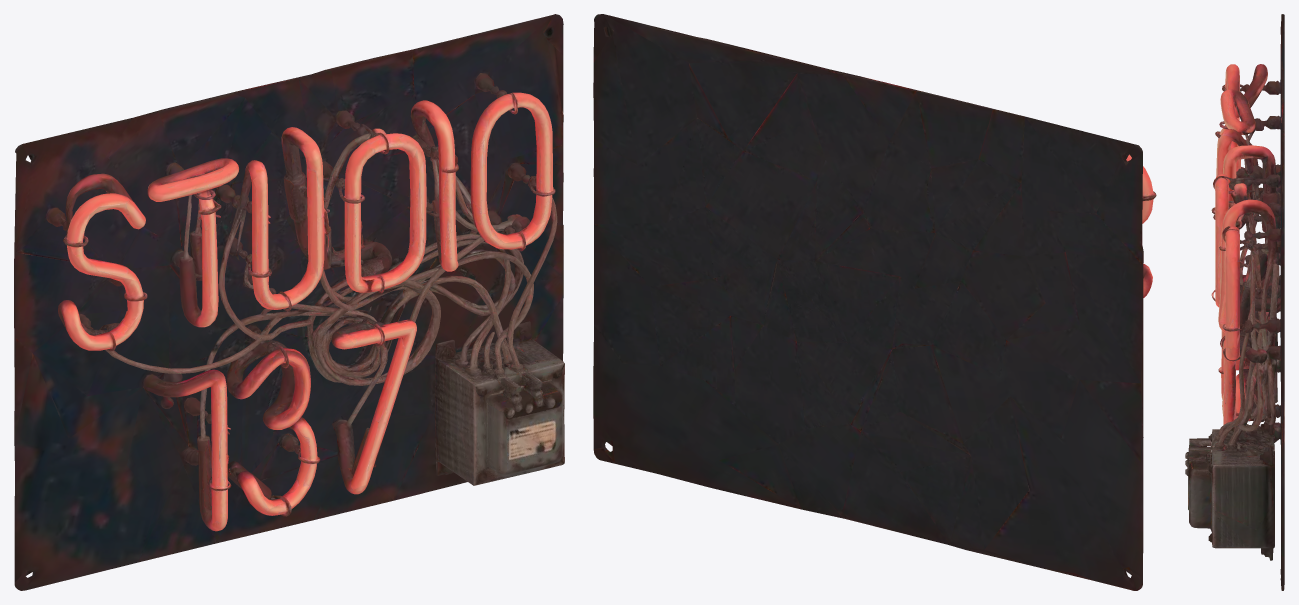
Rendered from neon.glb.
3 renders of one model, left to right at view 1: azimuth 30°, elevation 25°; view 2: azimuth 150°, elevation 25°; view 3: azimuth 270°, elevation 25°, orthographic. The views are drawn at different scales.
Visible parts, largest first — view 1: Mesh_0; view 2: Mesh_0; view 3: Mesh_0.
Boxes of the visible parts, x1,y1,x2,y2 form: Mesh_0: [14, 14, 564, 590]; Mesh_0: [593, 14, 1156, 590]; Mesh_0: [1185, 14, 1284, 590].
Bounding box in the file's own units: 1.9 × 1.48 × 0.3658.
Materials: 1 (1 with a texture image).
